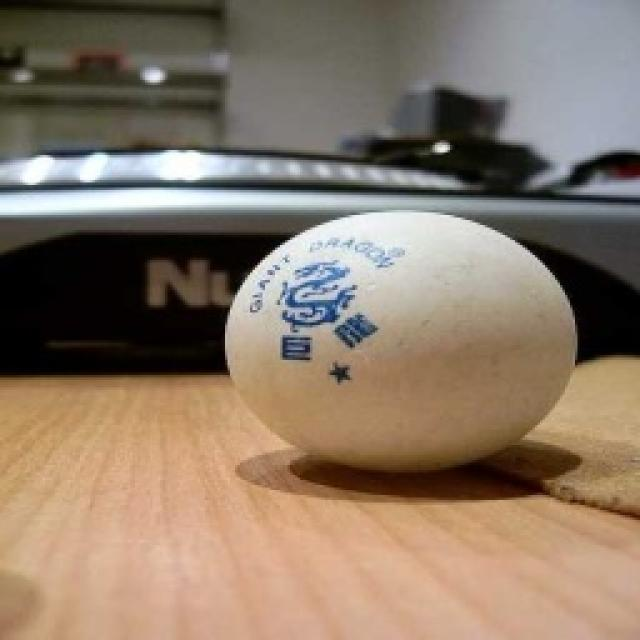ping-pong-ball: (228, 210, 579, 469)
